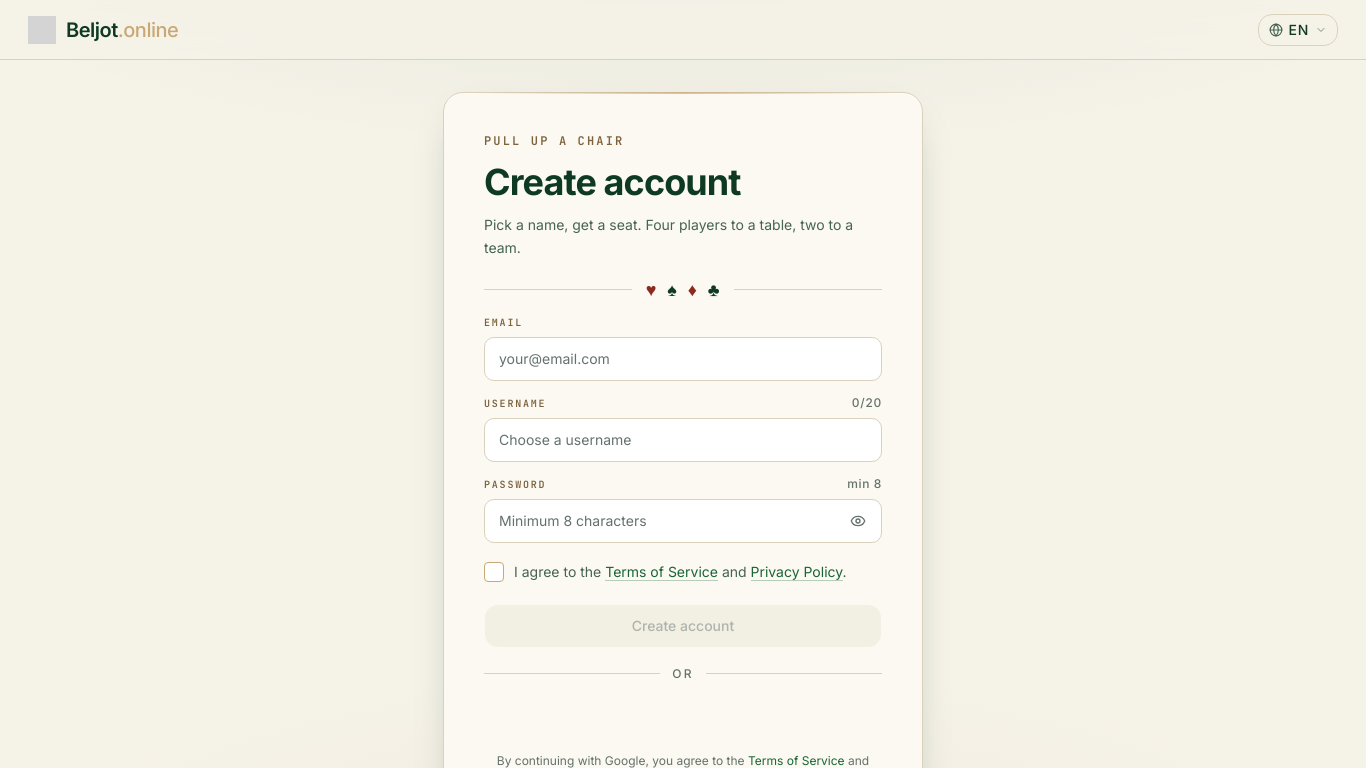
Test: RegisterPage › disables submit until the consent checkbox is checked
Expected: the button with test id "submit-button" is disabled, [484,604,882,648]
Click the checkbox with test id "consent-checkbox" at (683, 572), box [484,561,882,582]
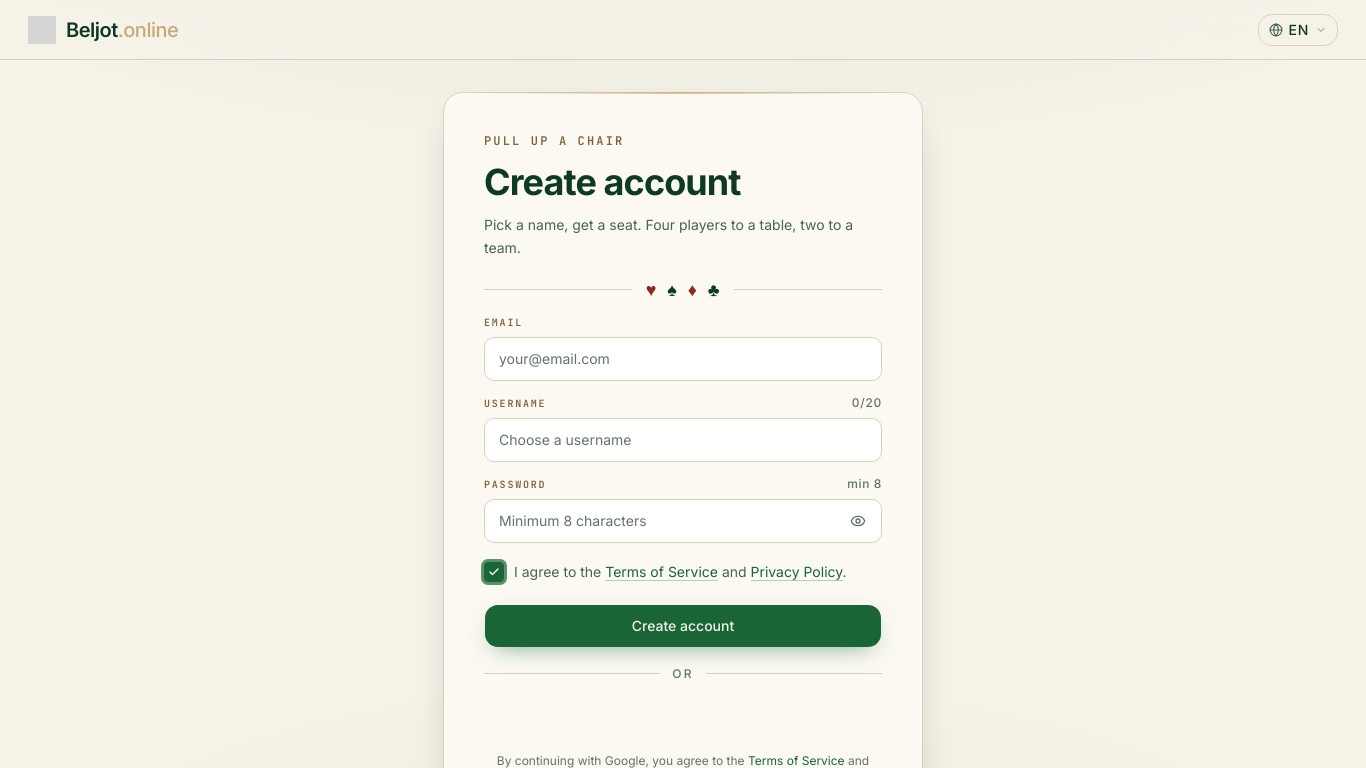
Expected: the button with test id "submit-button" is enabled, [484,604,882,648]
